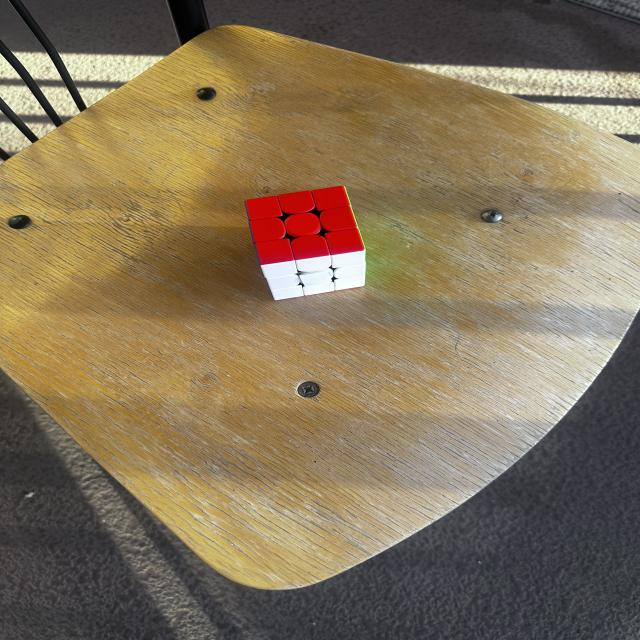sticker: (255, 238, 297, 277), (291, 234, 332, 272), (311, 185, 353, 211), (248, 216, 287, 244), (320, 206, 360, 233), (324, 228, 365, 254), (276, 189, 316, 215), (244, 195, 284, 221), (284, 212, 322, 237)
